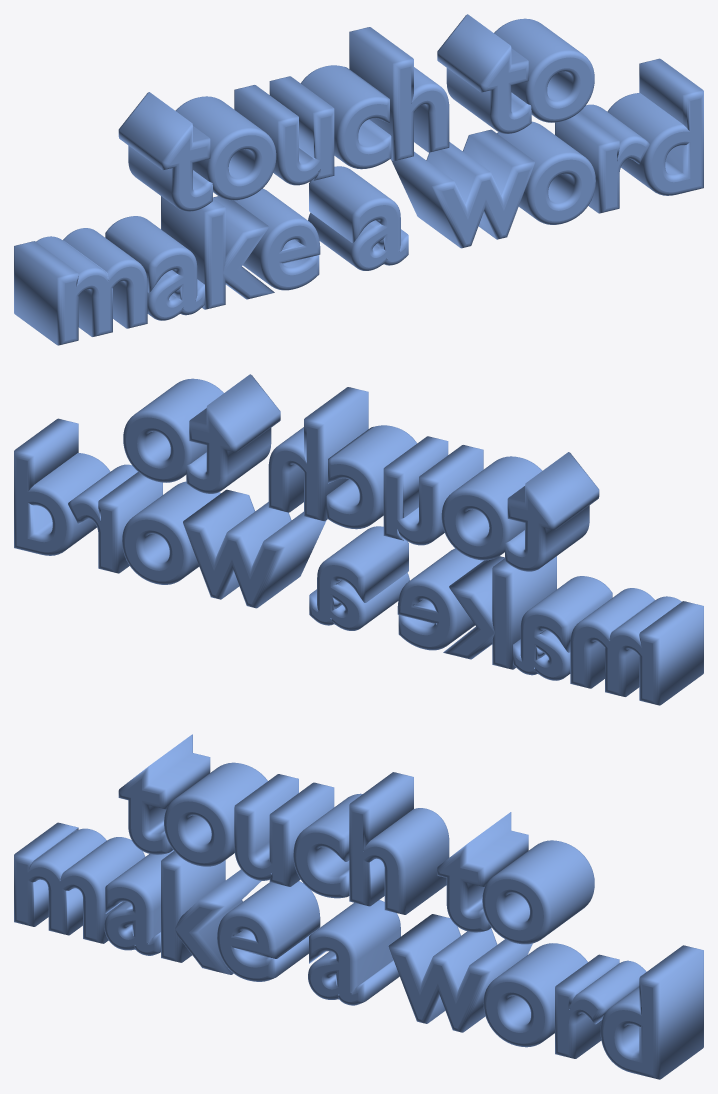
Rendered from touch1.glb.
The picture shows the model from 3 angles, top to bottom: view 1: azimuth 30°, elevation 25°; view 2: azimuth 150°, elevation 25°; view 3: azimuth 330°, elevation 25°; orthographic projection.
Visible parts, largest first — view 1: Text; view 2: Text; view 3: Text.
Part boxes in pixels (bbox=[...]): Text: bbox=[14, 14, 703, 345]; Text: bbox=[14, 374, 703, 705]; Text: bbox=[14, 734, 703, 1079].
Bounding box in the file's own units: 5.28 × 1.57 × 0.68.
